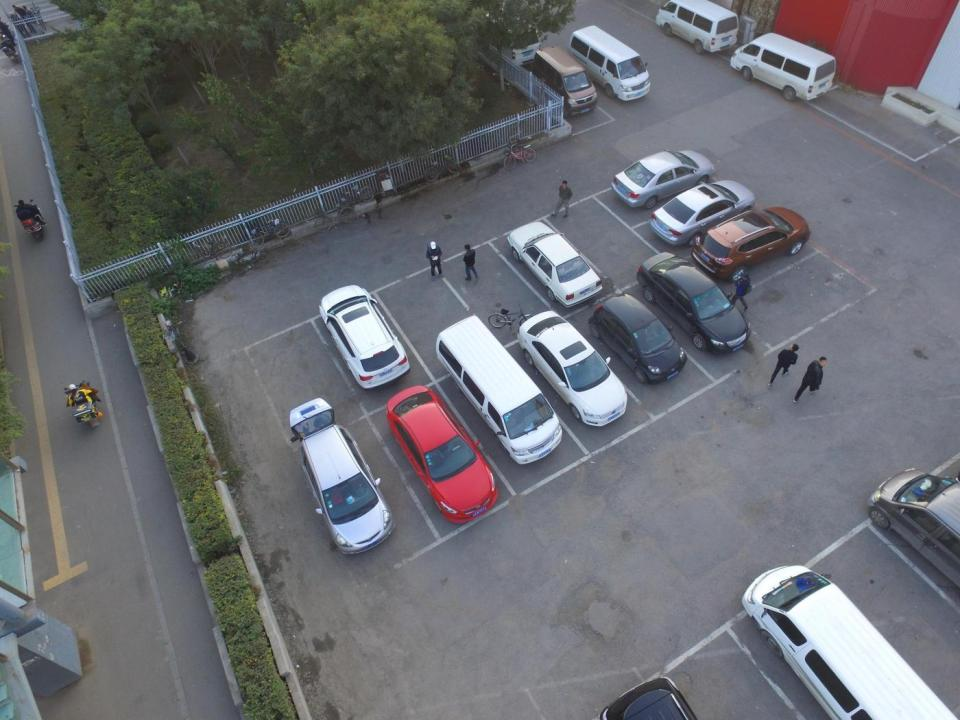car: (288, 399, 396, 556), (386, 386, 498, 523), (516, 312, 629, 430), (870, 462, 959, 592), (638, 251, 750, 352), (321, 286, 411, 390), (692, 204, 810, 282), (587, 293, 686, 385), (506, 221, 603, 304), (654, 178, 754, 246), (614, 148, 714, 207)
van: (740, 564, 958, 720), (435, 315, 561, 463), (730, 33, 837, 103), (570, 22, 650, 100), (530, 45, 597, 115), (657, 1, 739, 54), (476, 7, 541, 66)
